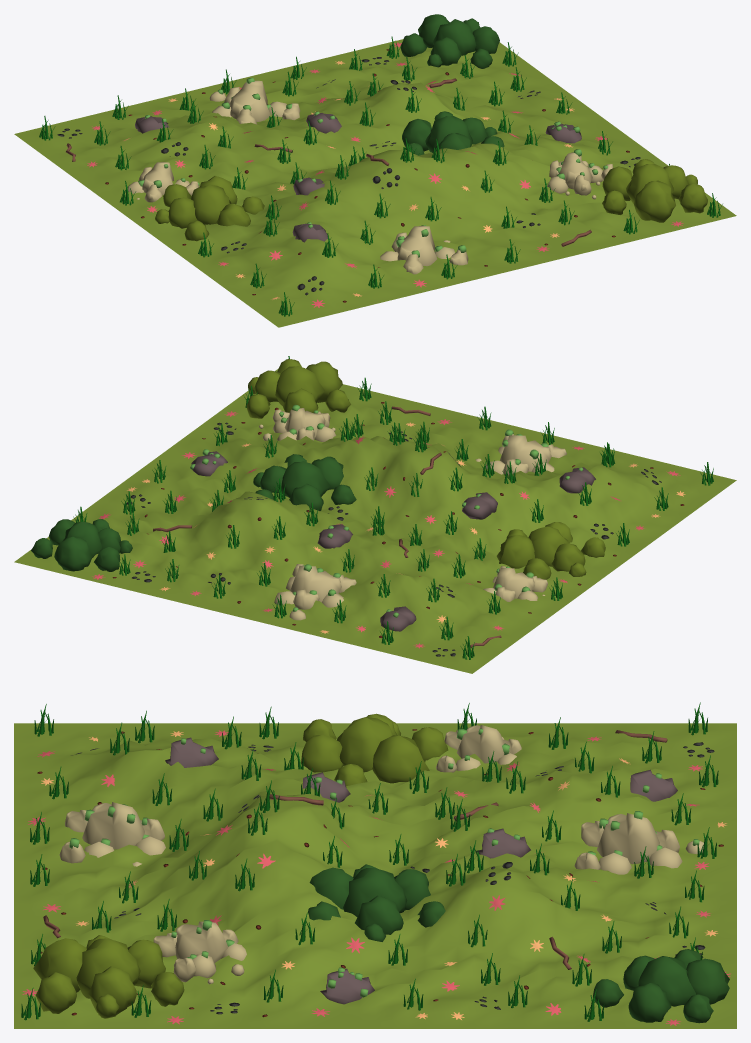
File: grassland.glb
The picture shows the model from 3 angles, top to bottom: view 1: azimuth 30°, elevation 25°; view 2: azimuth 150°, elevation 25°; view 3: azimuth 270°, elevation 25°; orthographic projection. The views are drawn at different scales.
Visible parts, largest first — view 1: FlatGrass_Tile1x1.001; view 2: FlatGrass_Tile1x1.001; view 3: FlatGrass_Tile1x1.001.
Boxes of the visible parts, box(x1,y1,x2,y2) form: FlatGrass_Tile1x1.001: box(14, 14, 736, 327); FlatGrass_Tile1x1.001: box(14, 356, 736, 673); FlatGrass_Tile1x1.001: box(14, 702, 736, 1028).
Bounding box in the file's own units: 4 × 0.7605 × 4.
